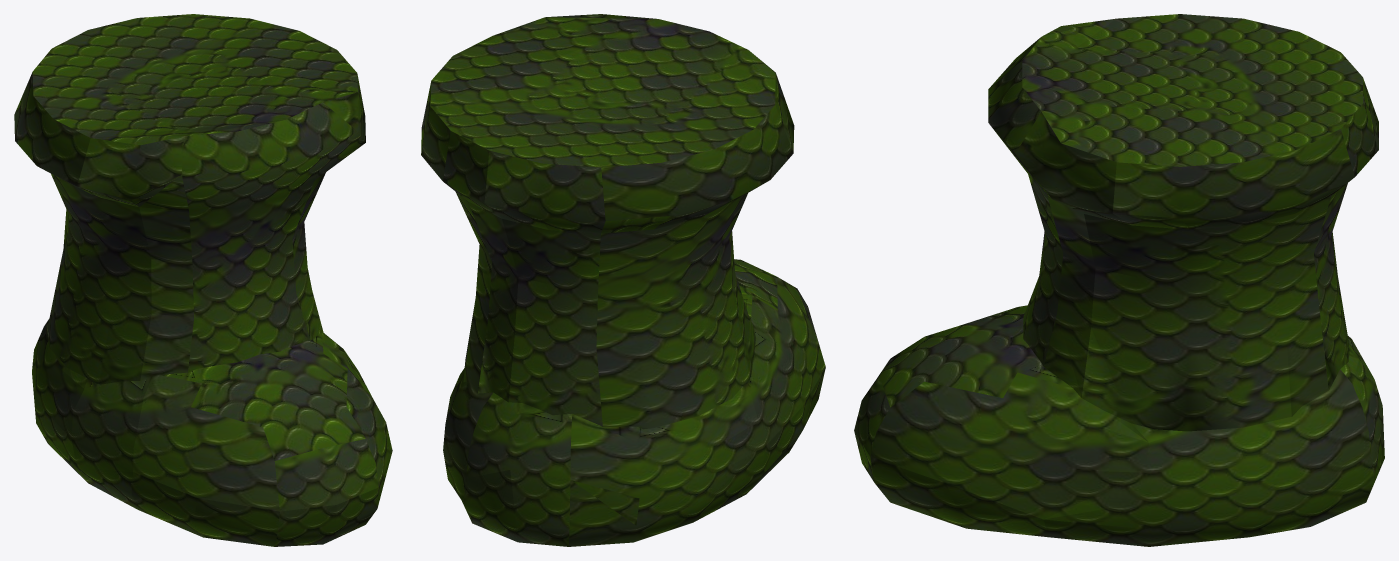
File: BotaIzq.obj
3 views of the same model, side by side, from view 1: azimuth 30°, elevation 25°; view 2: azimuth 150°, elevation 25°; view 3: azimuth 270°, elevation 25° (orthographic). The views are drawn at different scales.
Parts seen in each view (by area): view 1: botaIzq; view 2: botaIzq; view 3: botaIzq.
Boxes of the visible parts, left/top/right/bottom form: botaIzq: left=14, top=14, right=392, bottom=546; botaIzq: left=421, top=14, right=825, bottom=546; botaIzq: left=854, top=14, right=1384, bottom=546.
Bounding box in the file's own units: 1.08 × 1.27 × 1.47.
1 material, 1 textured.
